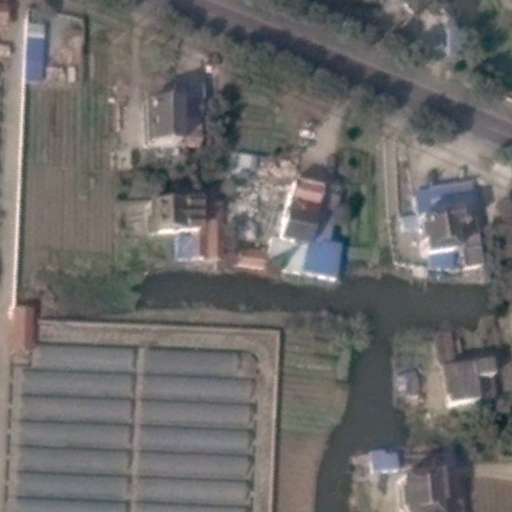msw: (225, 153, 295, 248)
